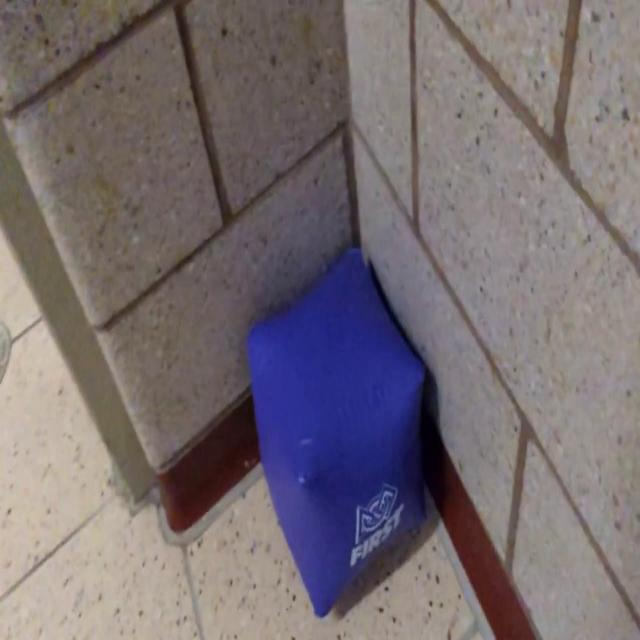frc_cube: (255, 252, 427, 610)
